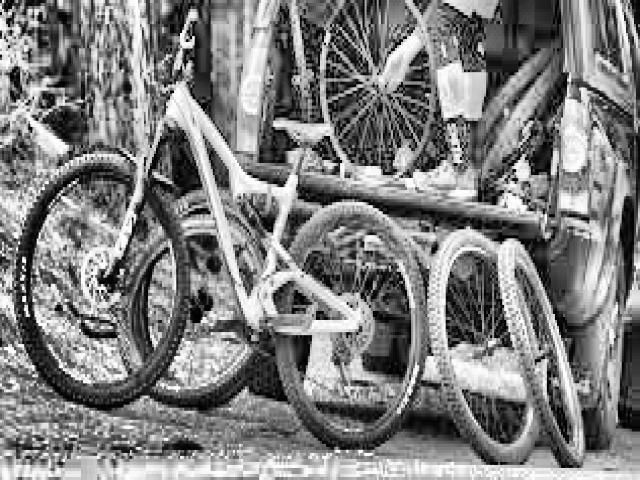pedal: (303, 305, 316, 337)
saddle: (272, 115, 334, 146)
wheel: (13, 153, 192, 414), (270, 198, 428, 444), (430, 224, 549, 467), (316, 0, 441, 178), (501, 226, 591, 468)
